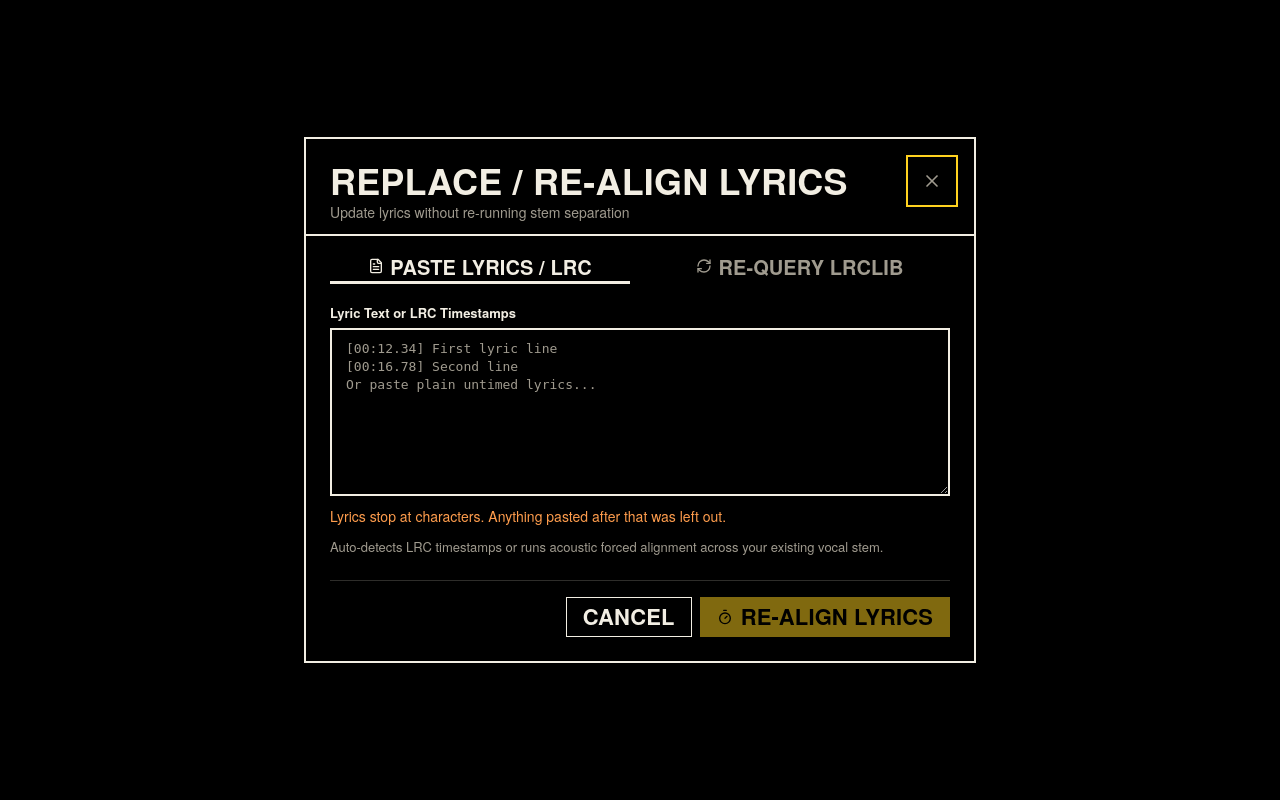
Test: the list of LRCLIB versions › shows no in-use mark when the lyrics came from elsewhere
What coordinates should you click on to do the following:
click the button "Re-query LRCLIB"
I would click on:
 (800, 268)
Its box is [650,252,950,284].
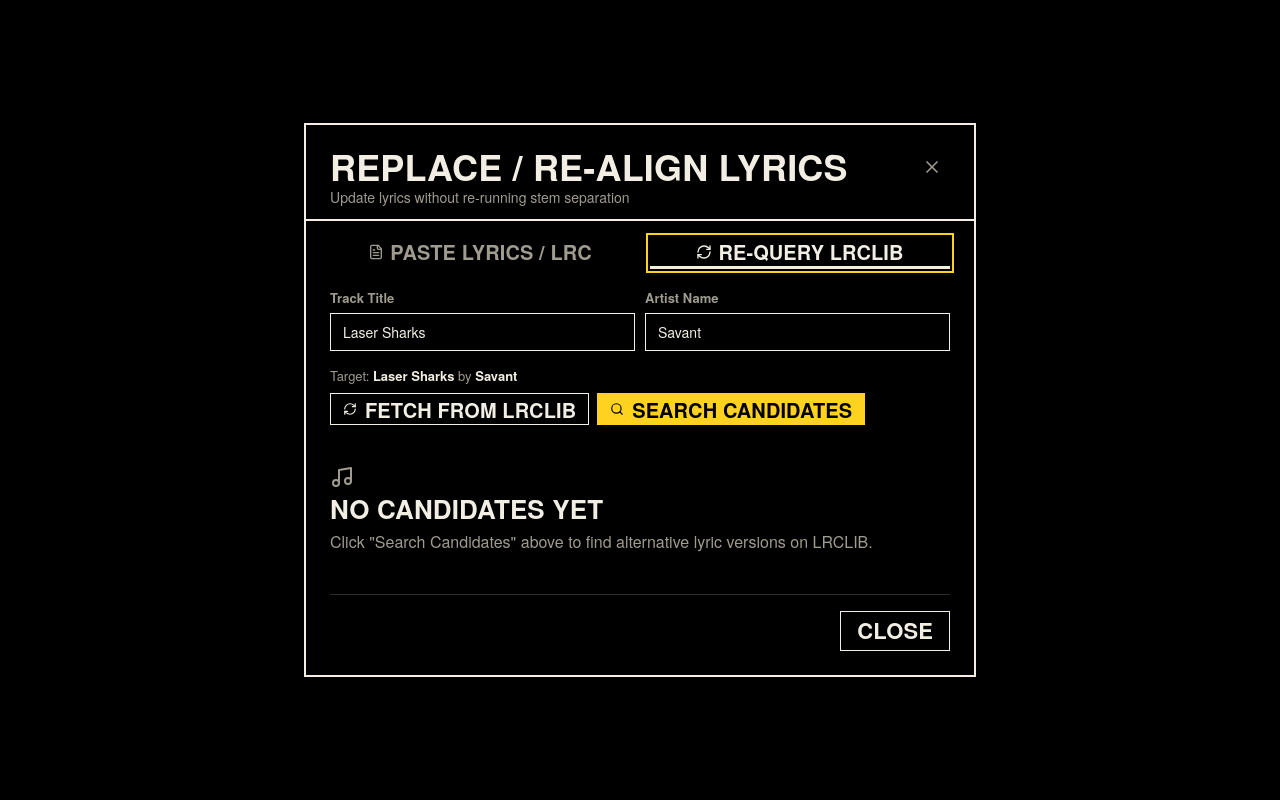
What coordinates should you click on to do the following:
click the button "Search Candidates"
I would click on:
 (731, 409)
Its box is [597,393,865,425].
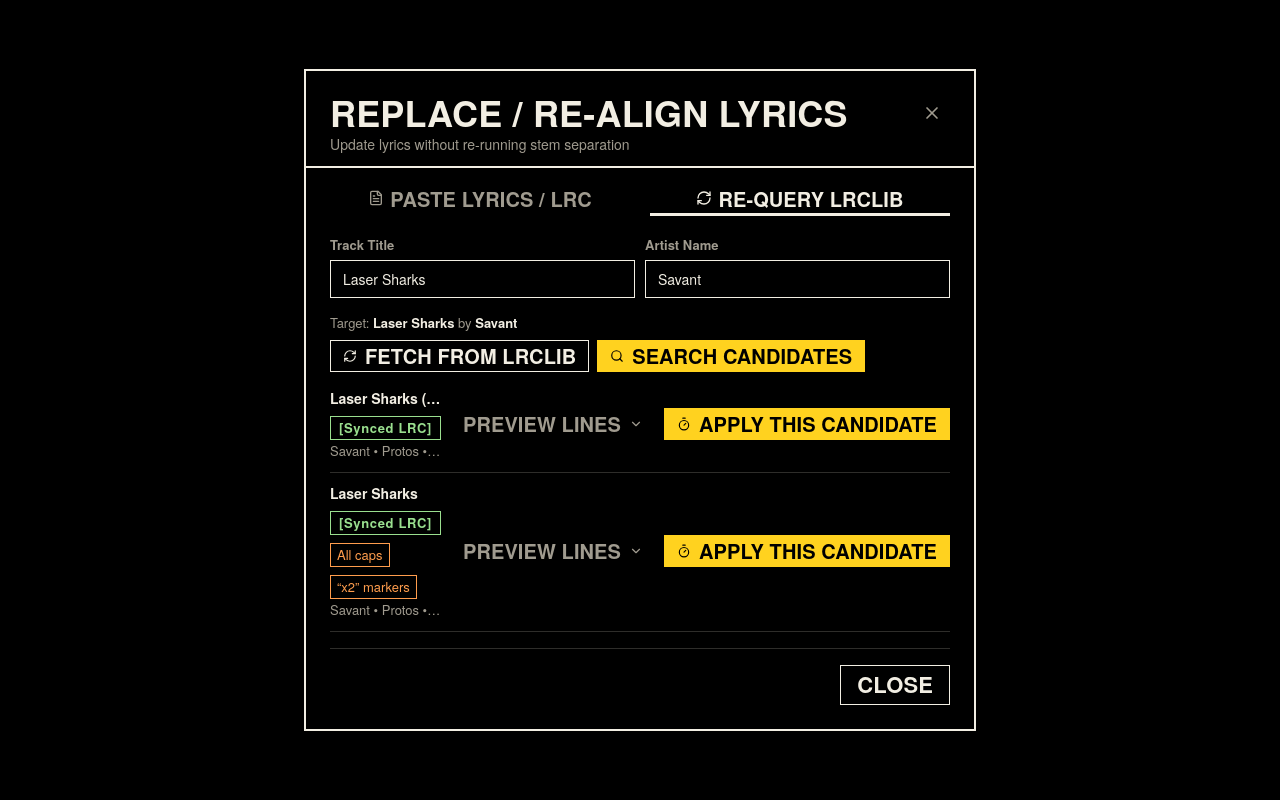
Expected: the element with test id "lyric-candidate-1" is shown, [330,483,950,632]
